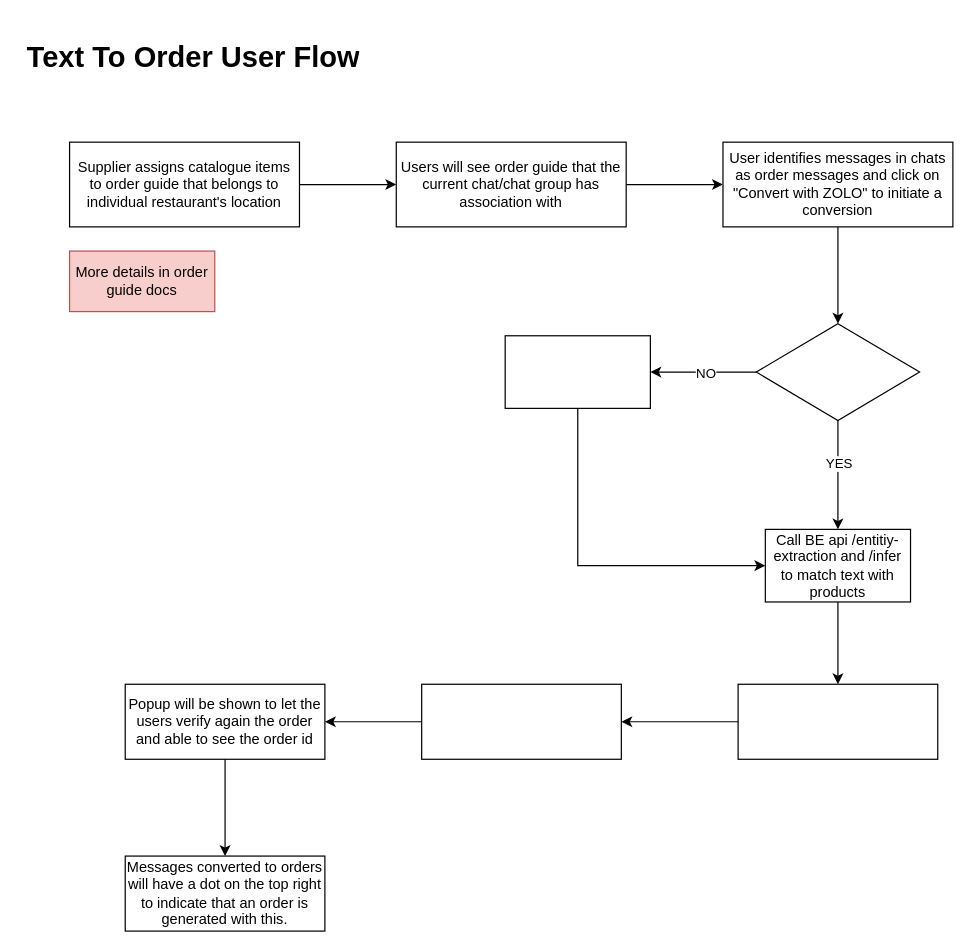
This 974x952 diagram has some shape labels left out. The centre of each missing label's shape, as x and y in pixels:
Auto detection of location success?: (x=837, y=371)
Click "Next" to submit the order: (x=520, y=721)
User do a mannual check on the matching result and make changes if necessary.: (x=837, y=721)
User mannually choose a location from dropdown: (x=577, y=371)
